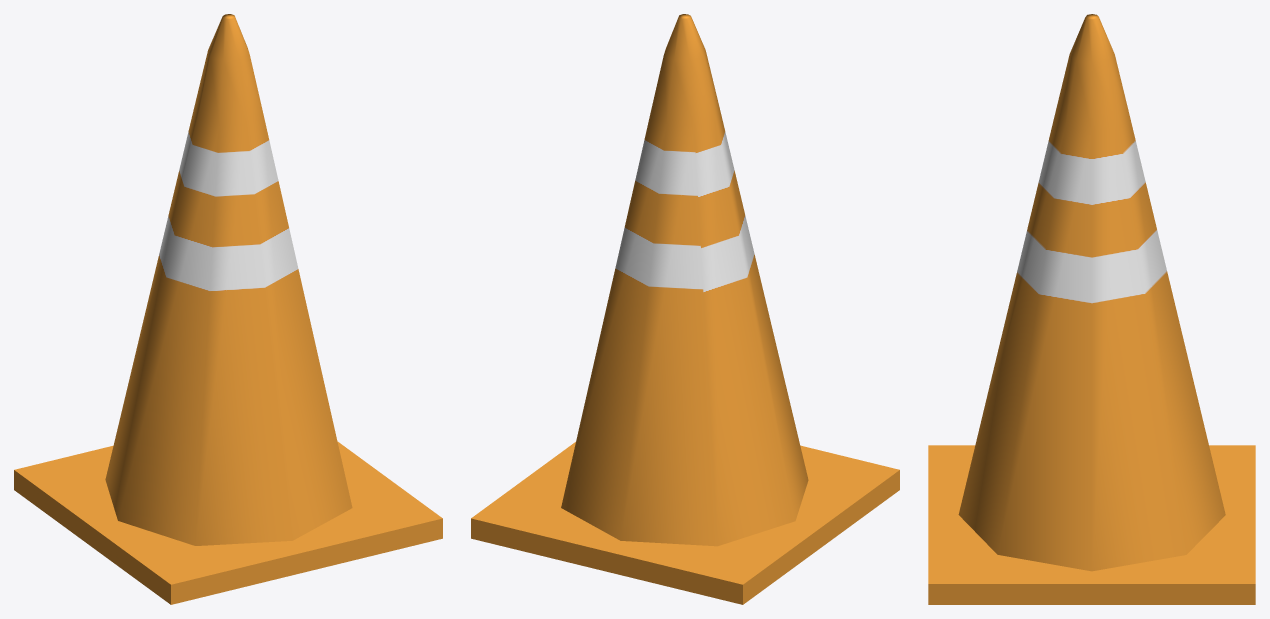
Rendered from TrafficCone.fbx.
The picture shows the model from 3 angles, left to right: view 1: azimuth 30°, elevation 25°; view 2: azimuth 150°, elevation 25°; view 3: azimuth 270°, elevation 25°; orthographic projection. The views are drawn at different scales.
Parts seen in each view (by area): view 1: traffic_cone; view 2: traffic_cone; view 3: traffic_cone.
Boxes of the visible parts, bbox=[...] form: traffic_cone: bbox=[14, 14, 442, 604]; traffic_cone: bbox=[471, 14, 899, 604]; traffic_cone: bbox=[928, 14, 1255, 604].
Size of the model in its own units: 2.68 by 4.69 by 2.68.
1 material, 1 textured.
